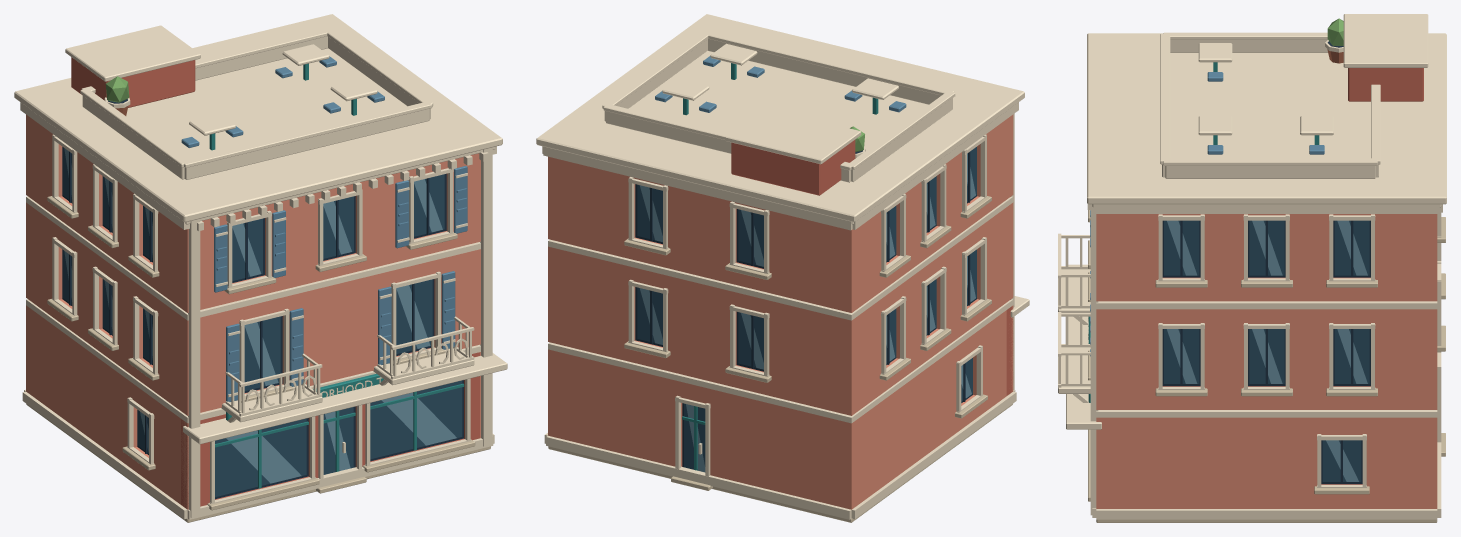
The model's file is neighborhood_restaurant.glb.
The picture shows the model from 3 angles, left to right: view 1: azimuth 30°, elevation 25°; view 2: azimuth 150°, elevation 25°; view 3: azimuth 270°, elevation 25°; orthographic projection. The views are drawn at different scales.
Parts seen in each view (by area): view 1: NeighborhoodRestaurant_StaticMesh; view 2: NeighborhoodRestaurant_StaticMesh; view 3: NeighborhoodRestaurant_StaticMesh.
Part boxes in pixels (bbox=[...]): NeighborhoodRestaurant_StaticMesh: bbox=[14, 14, 507, 522]; NeighborhoodRestaurant_StaticMesh: bbox=[536, 14, 1029, 522]; NeighborhoodRestaurant_StaticMesh: bbox=[1058, 14, 1446, 522].
Size of the model in its own units: 10.72 by 11.3 by 10.72.
